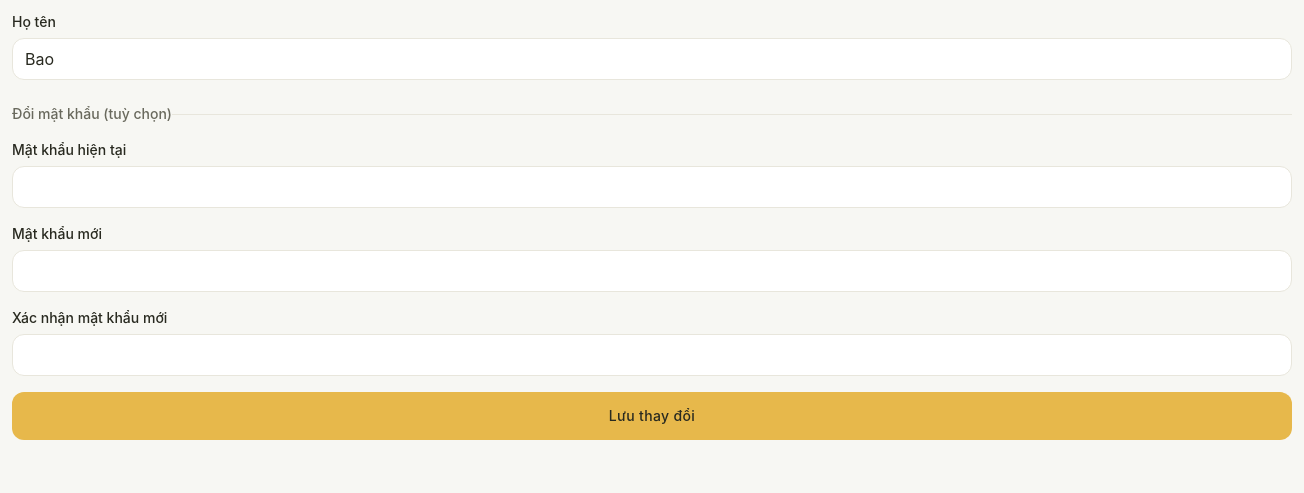
Test: ProfileForm › submits the updated name to updateProfile
The width and height of the screenshot is (1304, 493).
Replace the text in the field labelled "Họ tên" with "Bao Updated": point(652, 59) left=12, top=38, right=1292, bottom=80
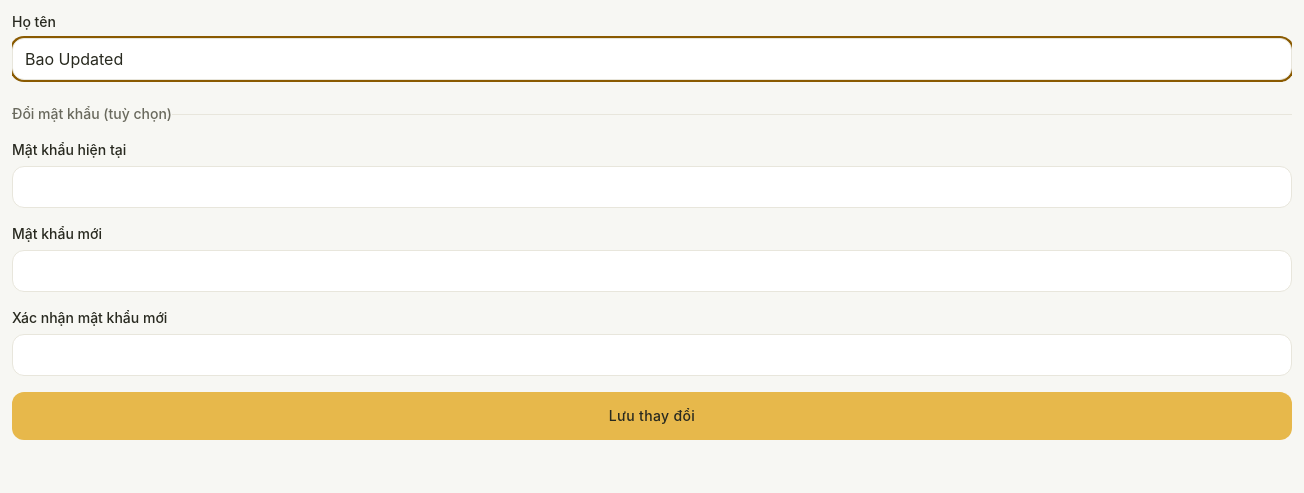
Click the button "Lưu thay đổi": point(652, 416) left=12, top=392, right=1292, bottom=440
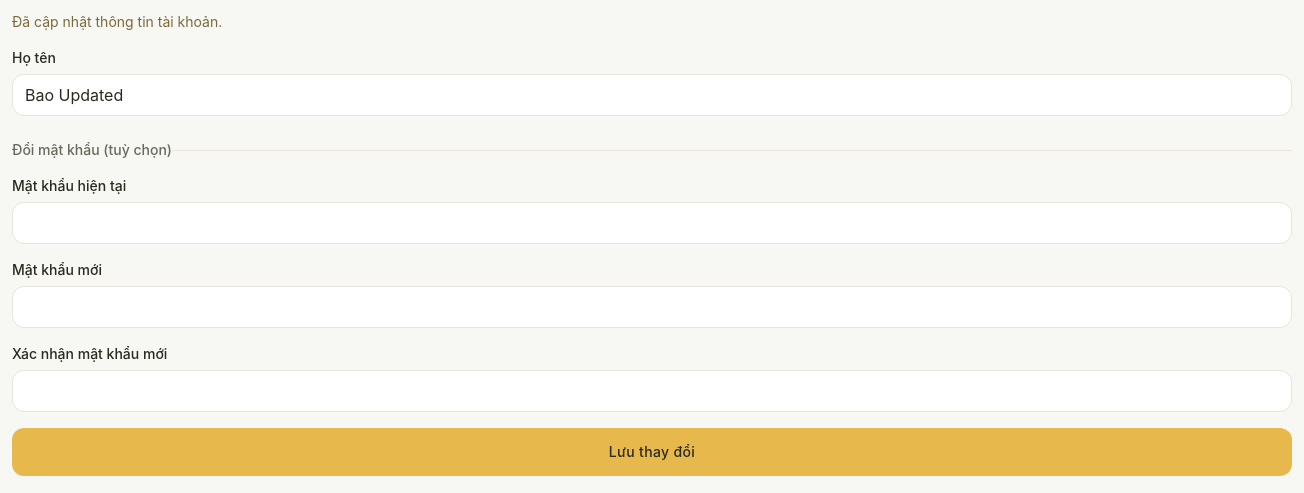
Expected: the text "Đã cập nhật thông tin tài khoản." is shown, left=12, top=13, right=222, bottom=30
